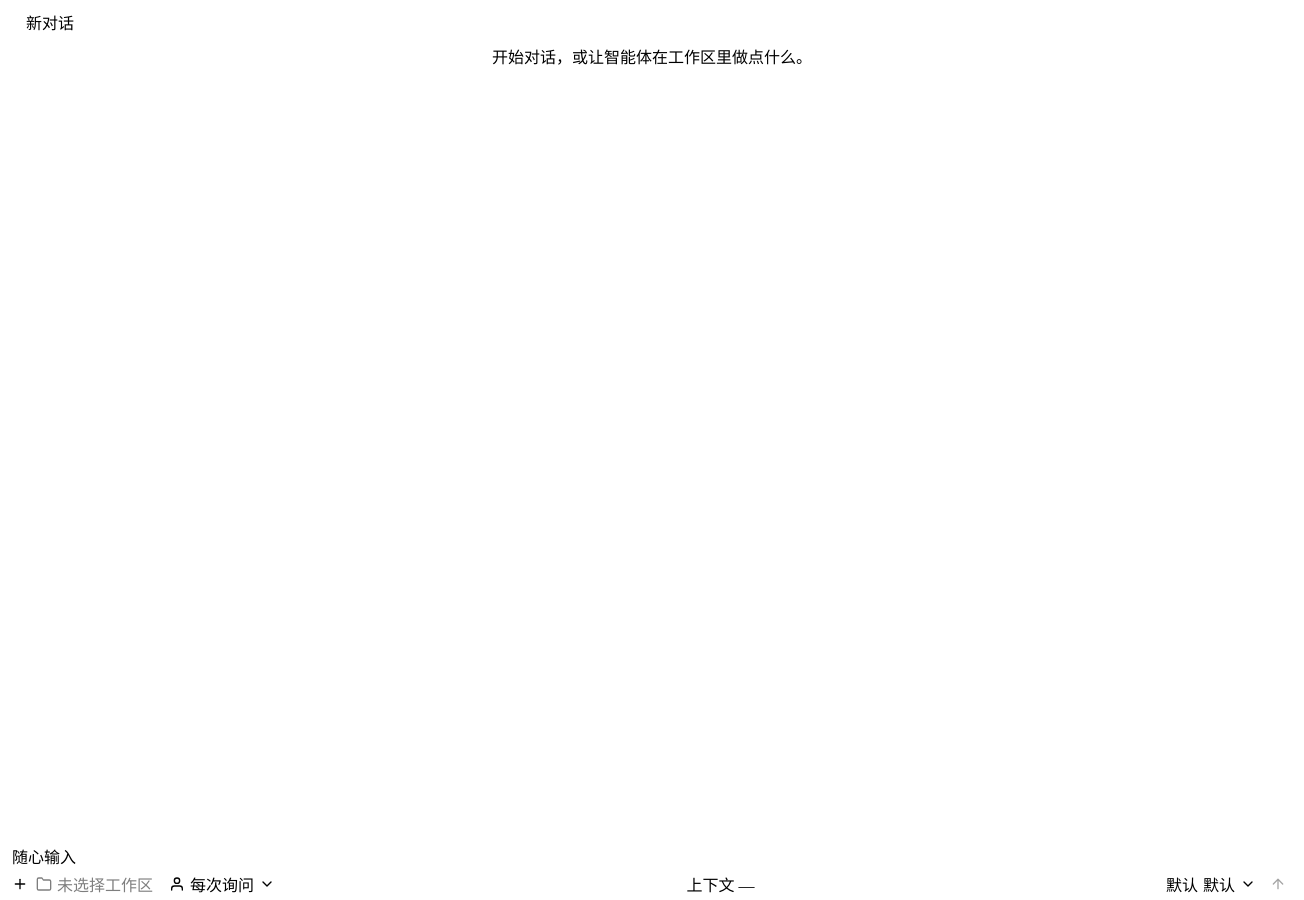
Test case: StandardChat knowledge slots › promptSession failure clears busy
Type "问一句" into the text box with test id "composer-input" at (652, 856), box [12, 844, 1292, 868]
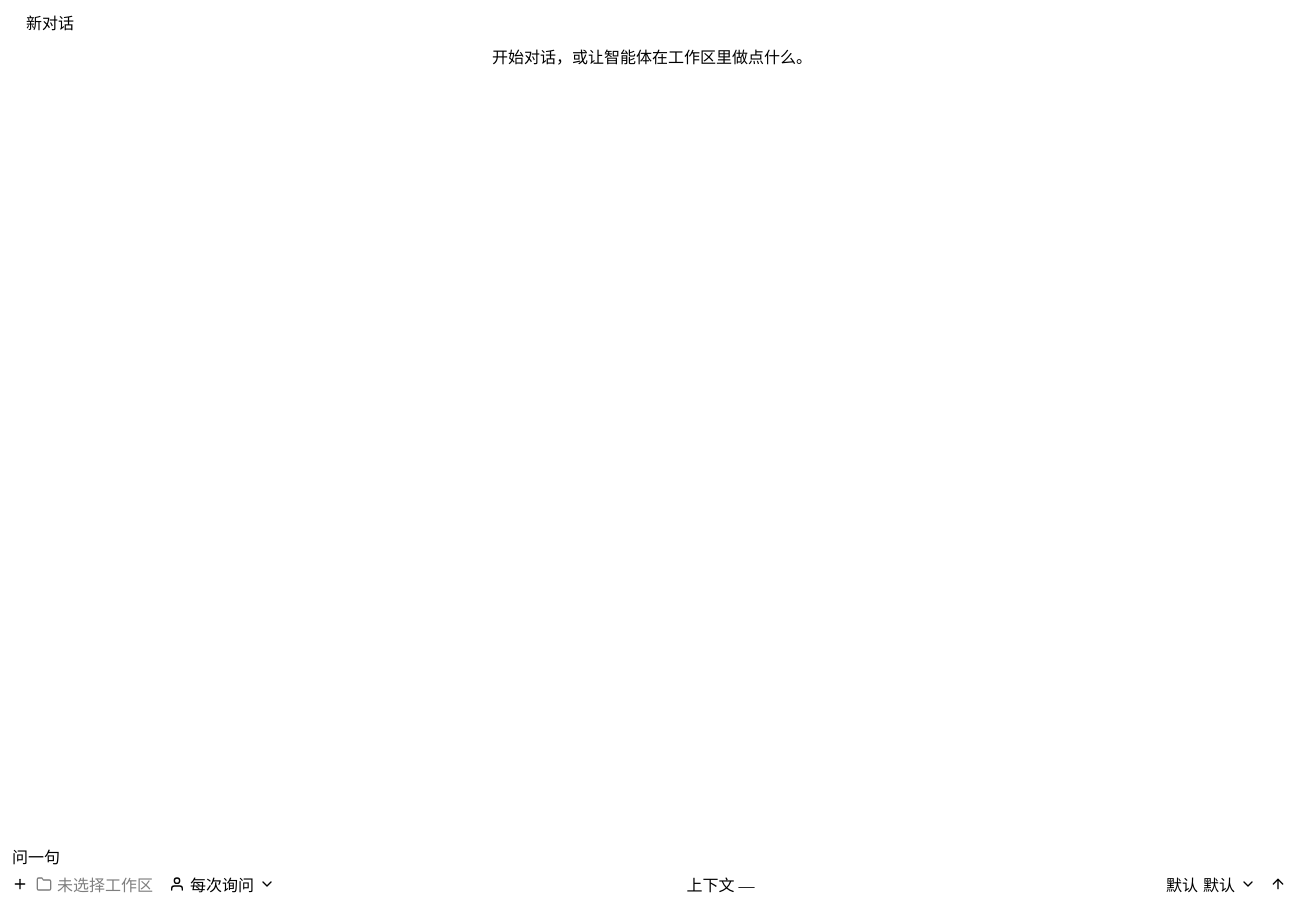
Press Enter in the text box with test id "composer-input", box [12, 844, 1292, 868]
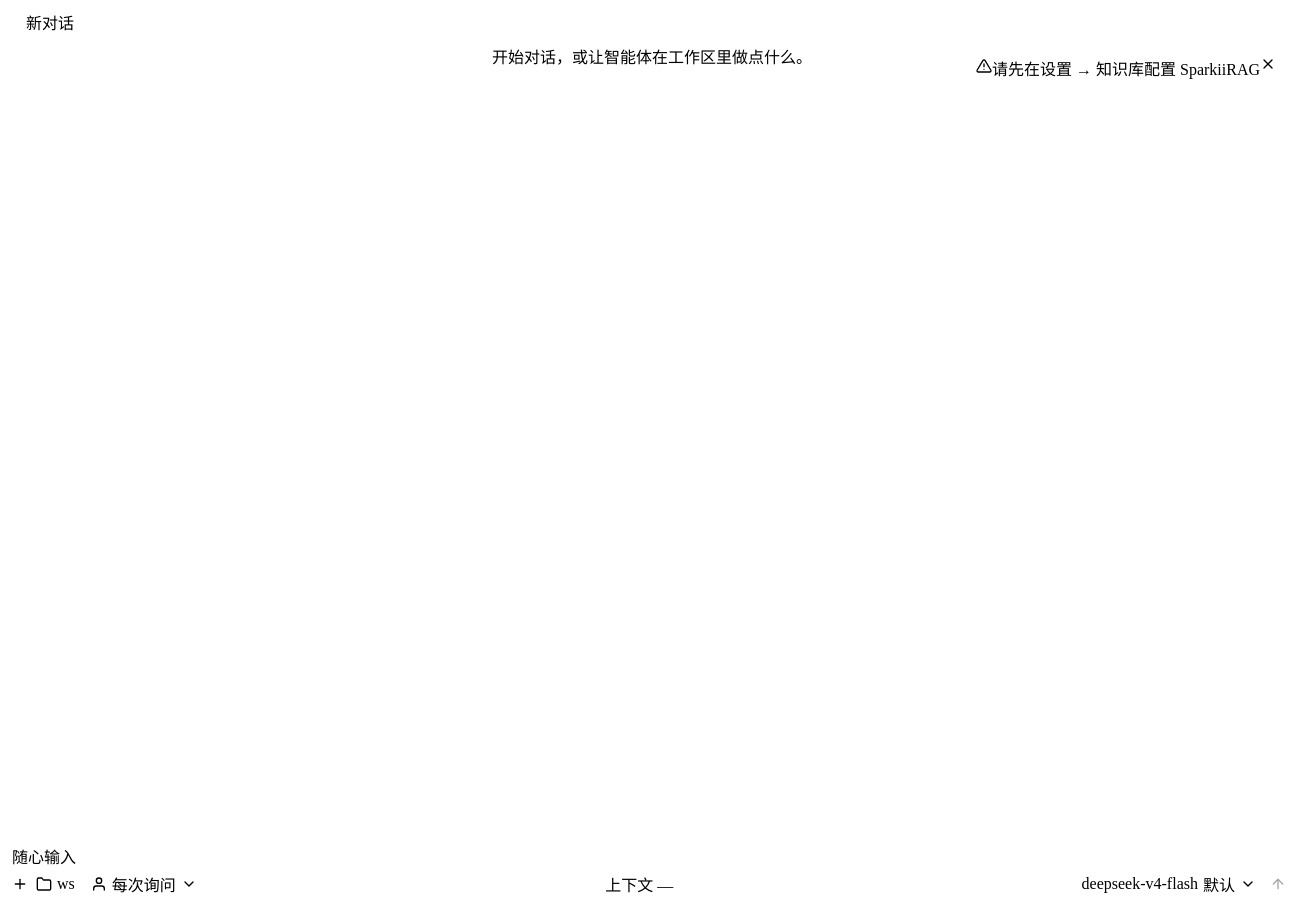
Result: the message shows "请先在设置" at [992, 61, 1260, 78]
